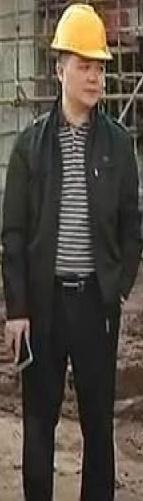hard-hat: (0, 66, 26, 114)
